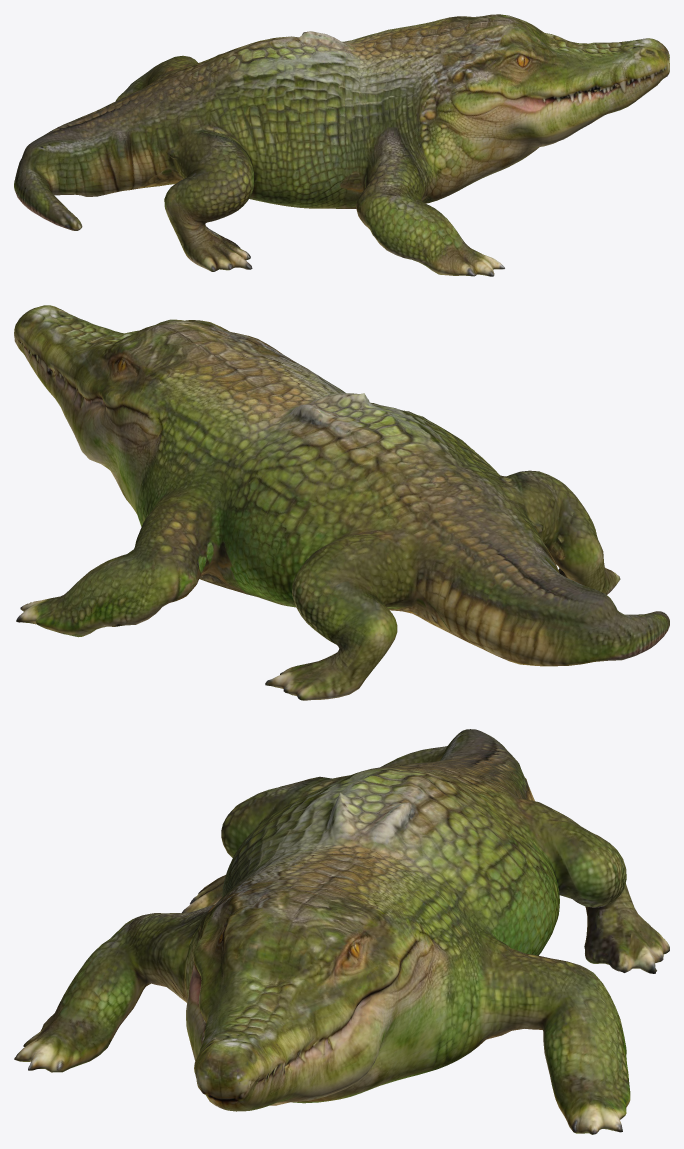
3 views of the same model, one above another, from view 1: azimuth 30°, elevation 25°; view 2: azimuth 150°, elevation 25°; view 3: azimuth 270°, elevation 25° (orthographic). The views are drawn at different scales.
Parts seen in each view (by area): view 1: Mesh0; view 2: Mesh0; view 3: Mesh0.
Part boxes in pixels (x1=…): Mesh0: x1=14, y1=14, x2=669, y2=276; Mesh0: x1=14, y1=305, x2=669, y2=700; Mesh0: x1=14, y1=729, x2=669, y2=1134.
Size of the model in its own units: 0.0831 by 0.0227 by 0.0579.
1 material, 1 textured.
